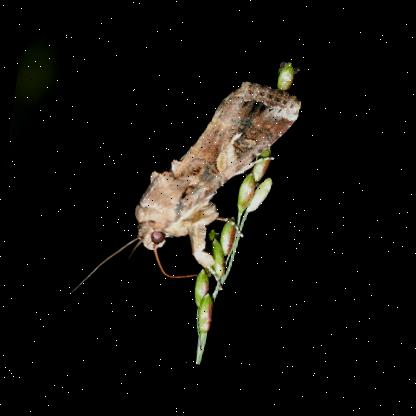Fall Armyworm Moth: (68, 54, 308, 326)
